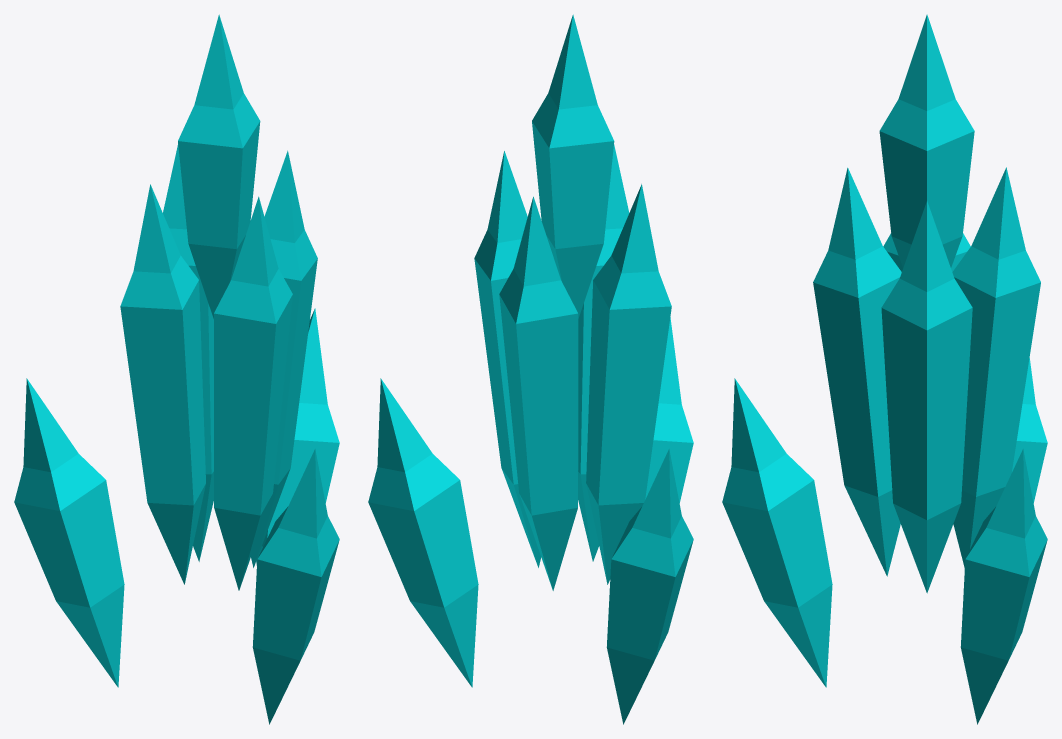
File: monument_02.fbx
3 views of the same model, side by side, from view 1: azimuth 30°, elevation 25°; view 2: azimuth 150°, elevation 25°; view 3: azimuth 270°, elevation 25° (orthographic).
Visible parts, largest first — view 1: polySurface395; view 2: polySurface395; view 3: polySurface395.
Part boxes in pixels (x1,y1,x2,y2): polySurface395: (14,14,339,724); polySurface395: (368,14,693,724); polySurface395: (722,14,1047,724).
Bounding box in the file's own units: 59.26 × 124 × 54.37.
